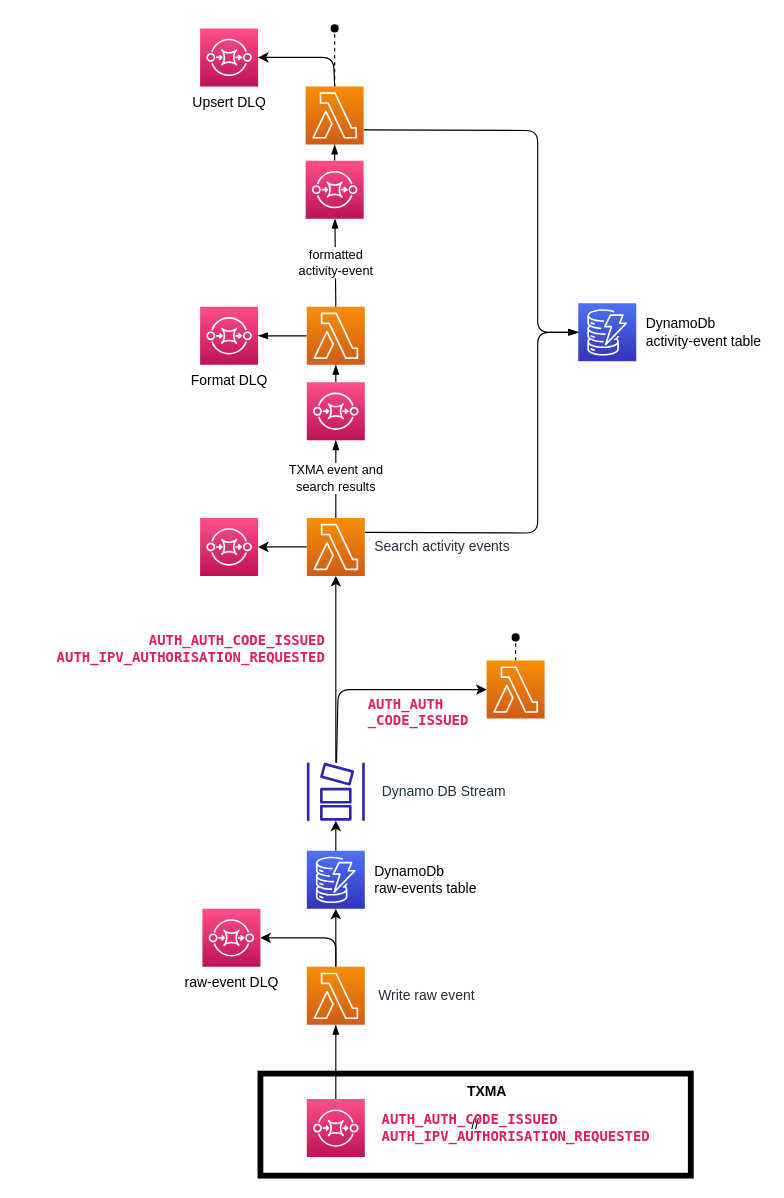
The diagram is 784 pixels wide and 1198 high, and some of its shapes have lost their labels. Each missing label, with the centre of its shape:
"Format activity event" belongs at point 335,335.
"Search DLQ" belongs at point 228,546.
"Upsert activity event" belongs at point 334,114.
"User Services flow (service cards)" belongs at point 515,689.
